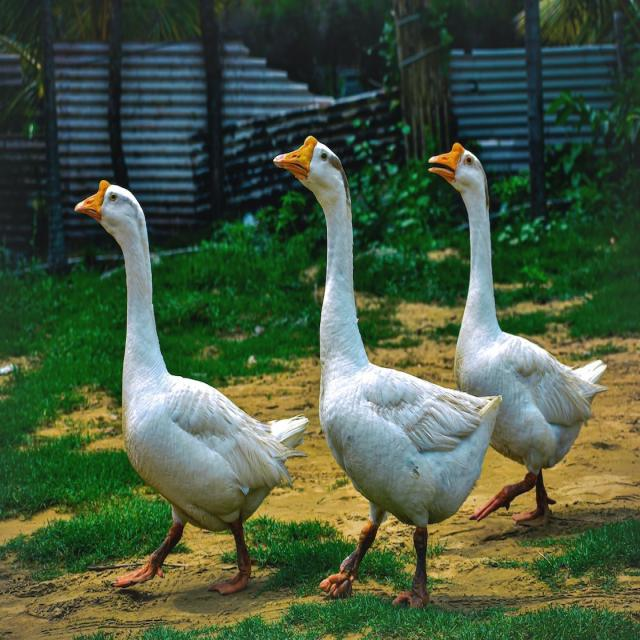Goose: (272, 127, 480, 638), (72, 180, 288, 602), (426, 127, 603, 516)
